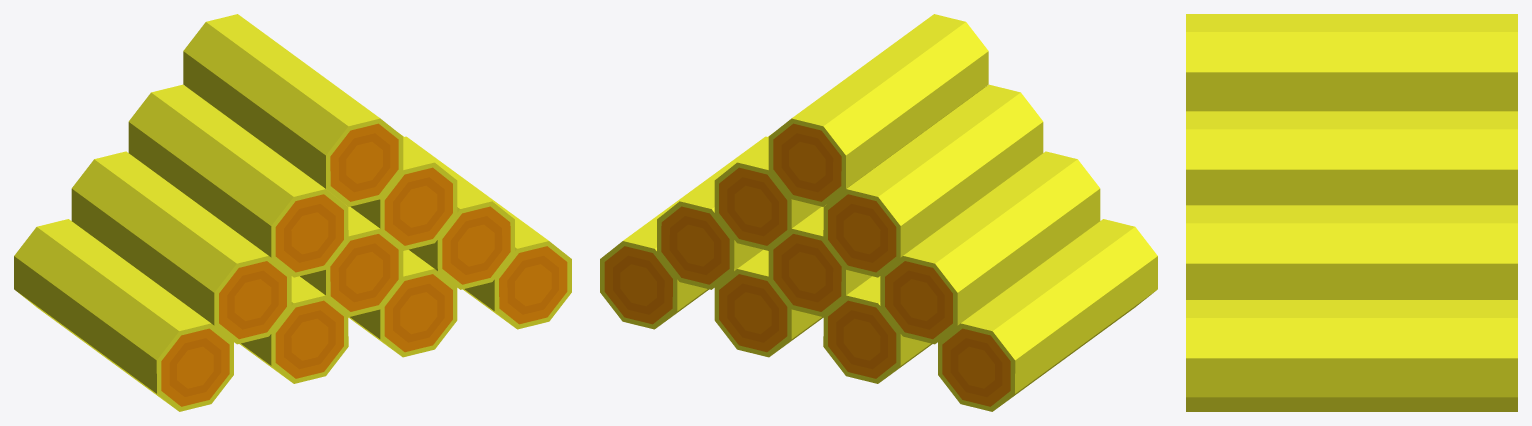
The model's file is Small Log_20.fbx.
3 views of the same model, side by side, from view 1: azimuth 30°, elevation 25°; view 2: azimuth 150°, elevation 25°; view 3: azimuth 270°, elevation 25° (orthographic). The views are drawn at different scales.
Visible parts, largest first — view 1: Circle.353; view 2: Circle.353; view 3: Circle.353.
Boxes of the visible parts, <box> form: Circle.353: <box>14,14,571,411</box>; Circle.353: <box>600,14,1157,411</box>; Circle.353: <box>1186,14,1517,411</box>.
Size of the model in its own units: 39.52 by 22.24 by 23.54.
